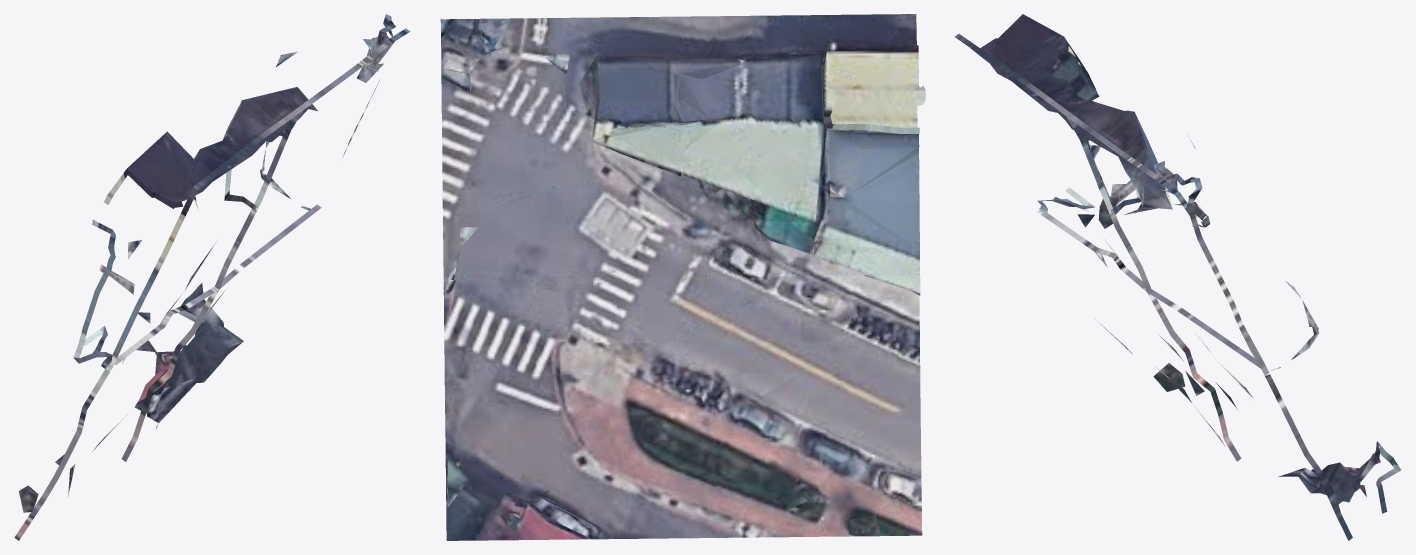
The picture shows the model from 3 angles, left to right: view 1: azimuth 30°, elevation 25°; view 2: azimuth 150°, elevation 25°; view 3: azimuth 270°, elevation 25°; orthographic projection. The views are drawn at different scales.
Bounding box in the file's own units: 38.48 × 35.7 × 35.83.
1 material, 1 textured.
